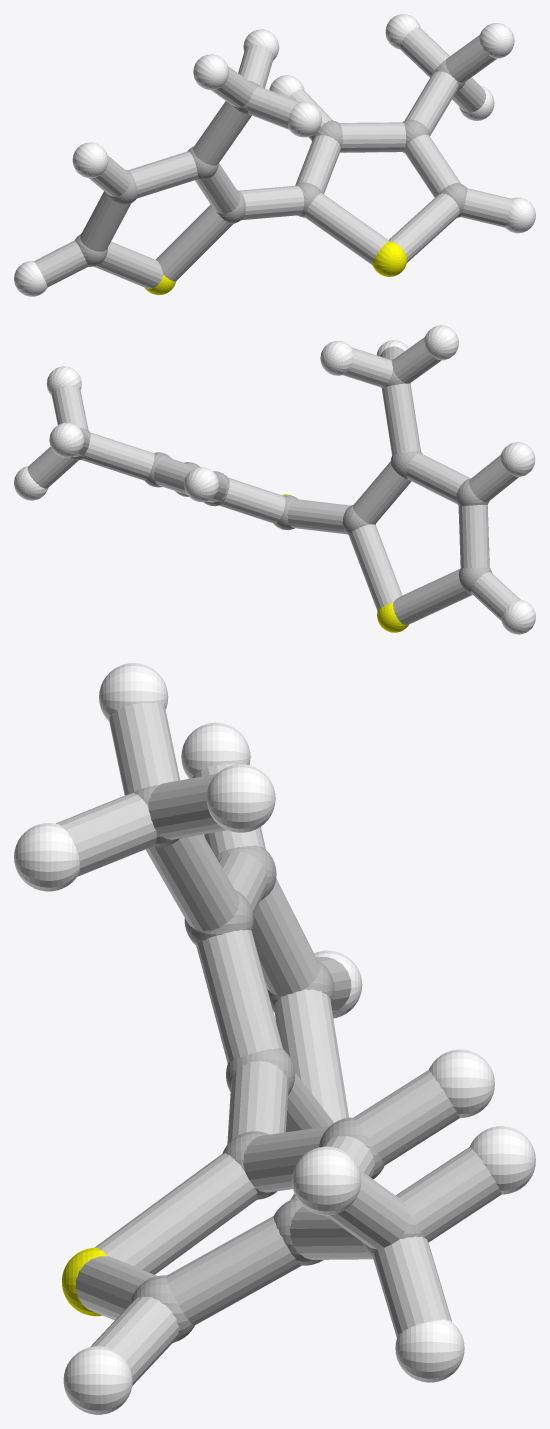
Rendered from color.glb.
3 views of the same model, one above another, from view 1: azimuth 30°, elevation 25°; view 2: azimuth 150°, elevation 25°; view 3: azimuth 270°, elevation 25° (orthographic). The views are drawn at different scales.
Parts seen in each view (by area): view 1: grp7965, grp3621, grp1, grp7241; view 2: grp7965, grp3621, grp1, grp7241; view 3: grp7965, grp3621, grp1, grp7241.
Part boxes in pixels (<box>): grp7965: <box>34,27,511,288</box>; grp3621: <box>14,14,535,296</box>; grp1: <box>75,60,467,266</box>; grp7241: <box>144,241,407,295</box>; grp7965: <box>27,337,520,625</box>; grp3621: <box>14,325,535,634</box>; grp1: <box>71,359,492,594</box>; grp7241: <box>273,494,408,632</box>; grp7965: <box>56,702,501,1385</box>; grp3621: <box>14,663,535,1414</box>; grp1: <box>130,785,423,1342</box>; grp7241: <box>62,1247,107,1316</box>.
Bounding box in the file's own units: 9.68 × 5.04 × 4.52.
